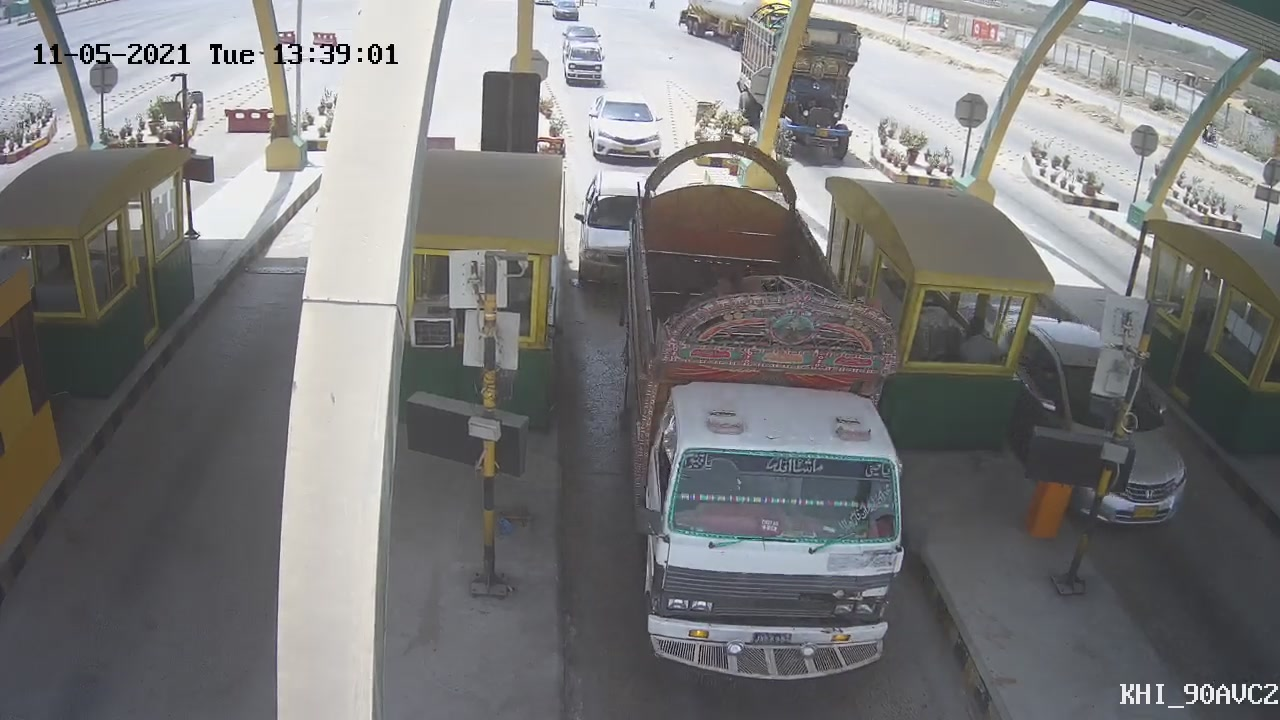F5: (615, 143, 915, 692)
